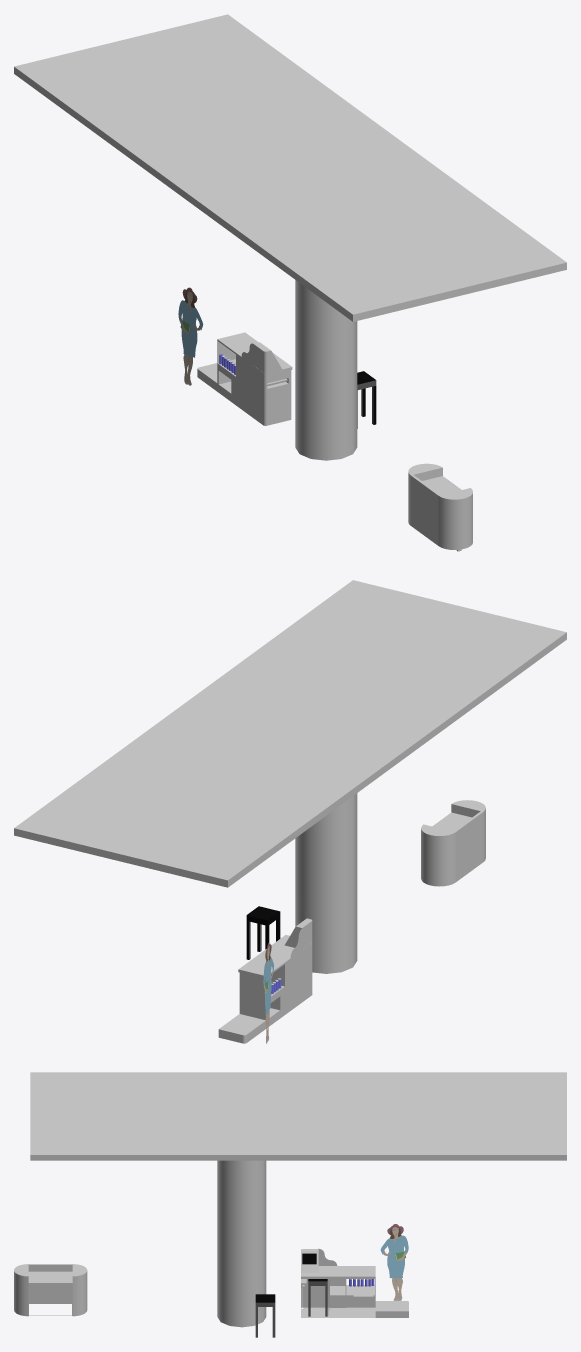
File: hostess1.glb
3 views of the same model, one above another, from view 1: azimuth 30°, elevation 25°; view 2: azimuth 150°, elevation 25°; view 3: azimuth 270°, elevation 25° (orthographic). The views are drawn at different scales.
Visible parts, largest first — view 1: 3DGeom-1, 3DGeom-3, 3DGeom-10; view 2: 3DGeom-1, 3DGeom-23, 3DGeom-3; view 3: 3DGeom-1, 3DGeom-10, 3DGeom-3.
Boxes of the visible parts, x1,y1,x2,y2 form: 3DGeom-1: (14, 14, 566, 551); 3DGeom-3: (241, 342, 282, 373); 3DGeom-10: (178, 302, 202, 357); 3DGeom-1: (14, 580, 566, 1043); 3DGeom-23: (246, 906, 280, 959); 3DGeom-3: (284, 918, 312, 957); 3DGeom-1: (14, 1072, 566, 1327); 3DGeom-10: (380, 1238, 408, 1278); 3DGeom-3: (301, 1248, 337, 1272).
Bounding box in the file's own units: 4 × 4.59 × 11.31.
